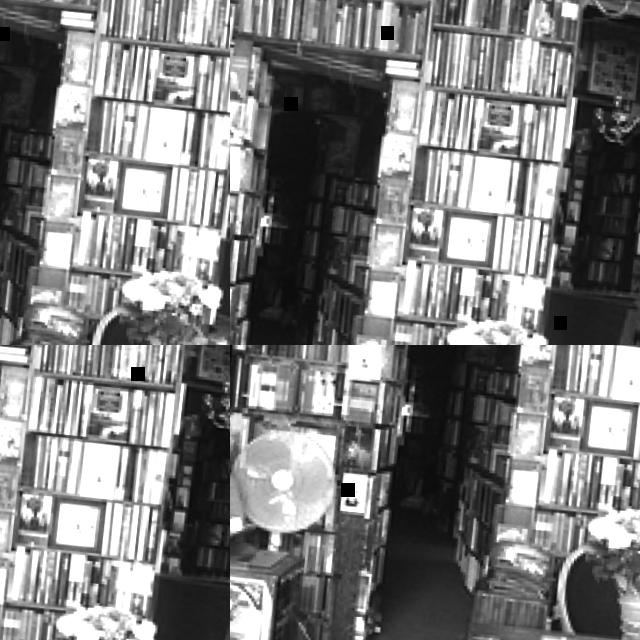Person: (0, 0, 55, 345)
machinery: (0, 529, 206, 640)
